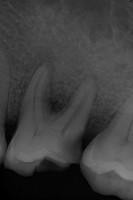Dental Caries: (31, 46, 58, 72)
Endo-Periodontal Lesion: (49, 95, 69, 114)
